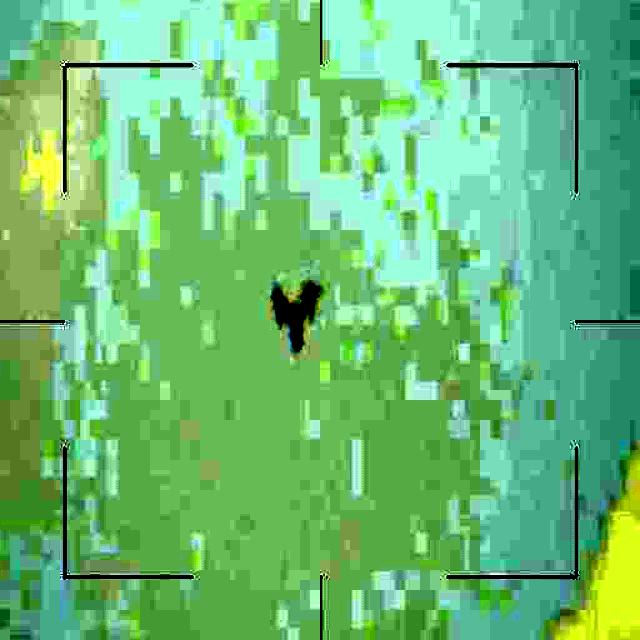bird: (269, 272, 325, 356)
